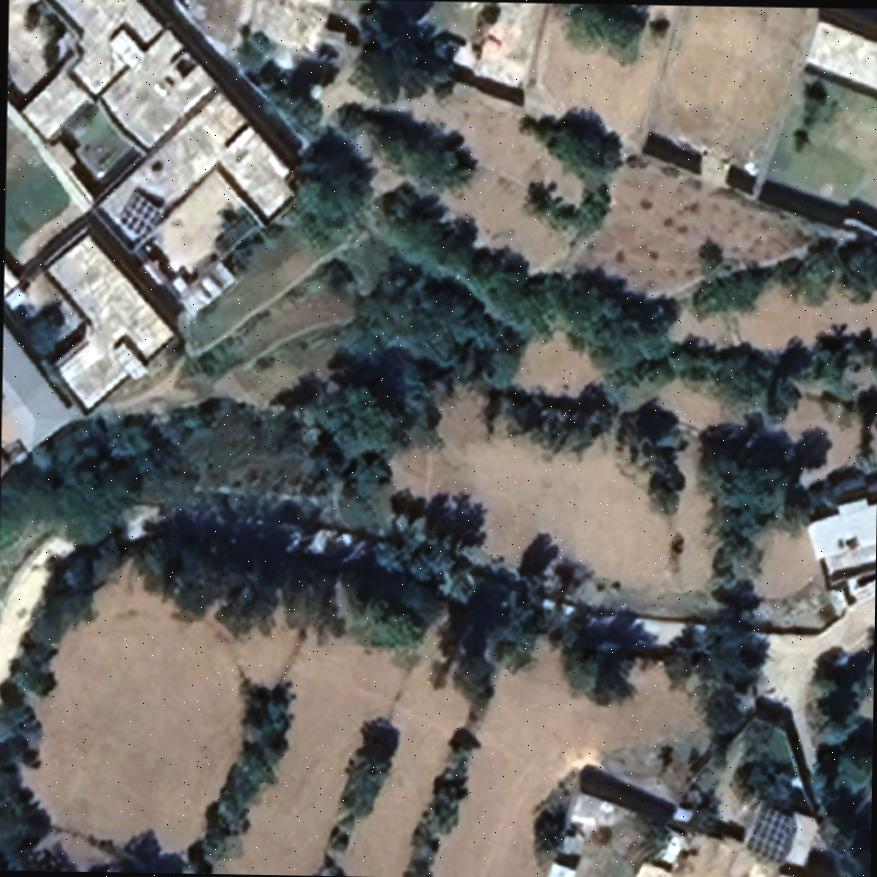Solarpanel: (746, 804, 796, 864), (119, 192, 161, 236)
